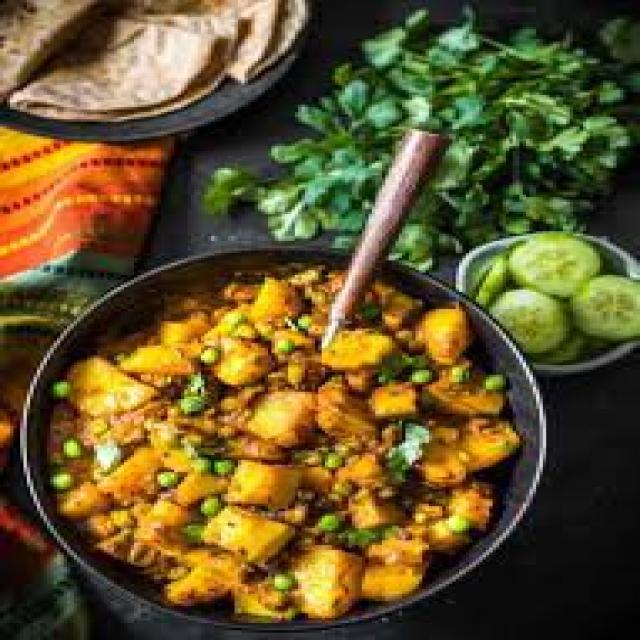Aloo Matar: (60, 269, 523, 605)
